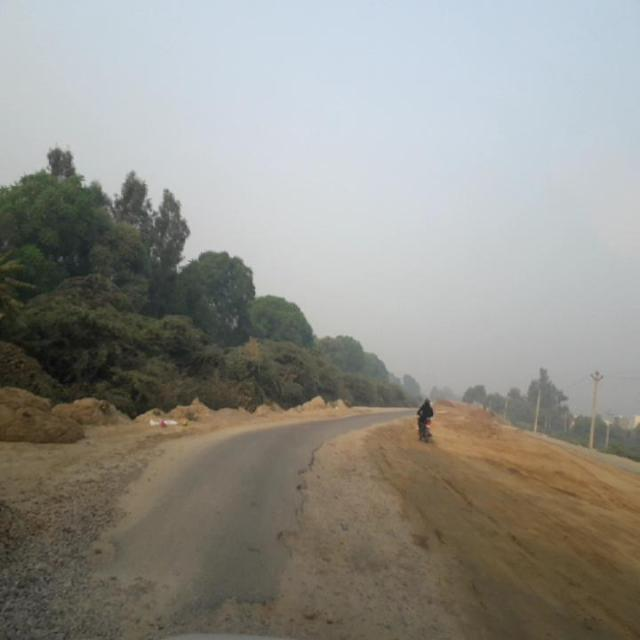Surface Erosion: (236, 370, 639, 640)
